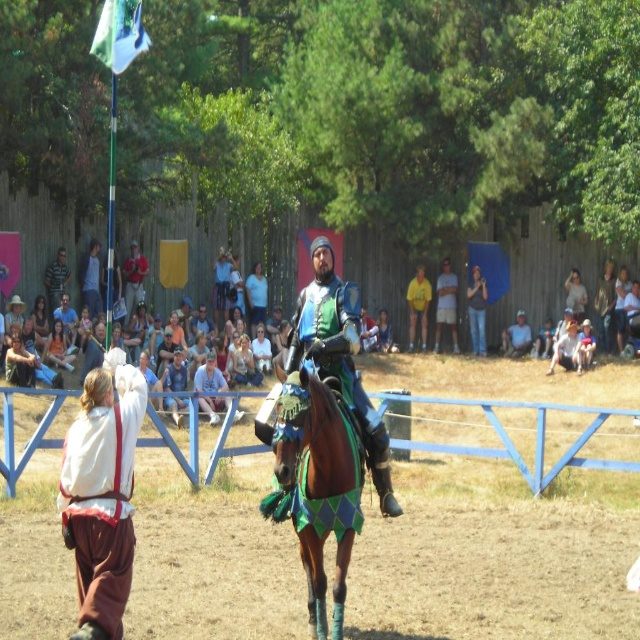Horse: (259, 361, 365, 640)
